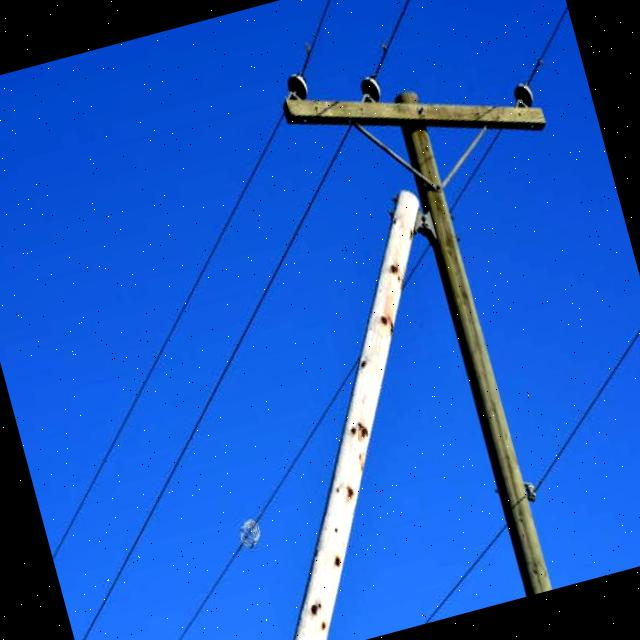Broken Pole: (280, 181, 431, 640)
